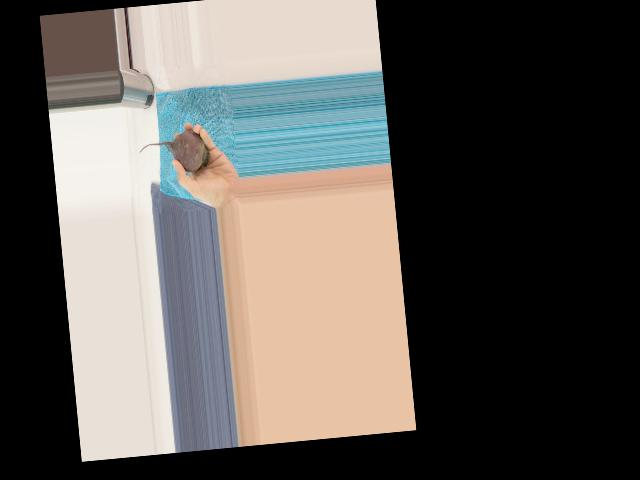beet: (138, 128, 211, 176)
